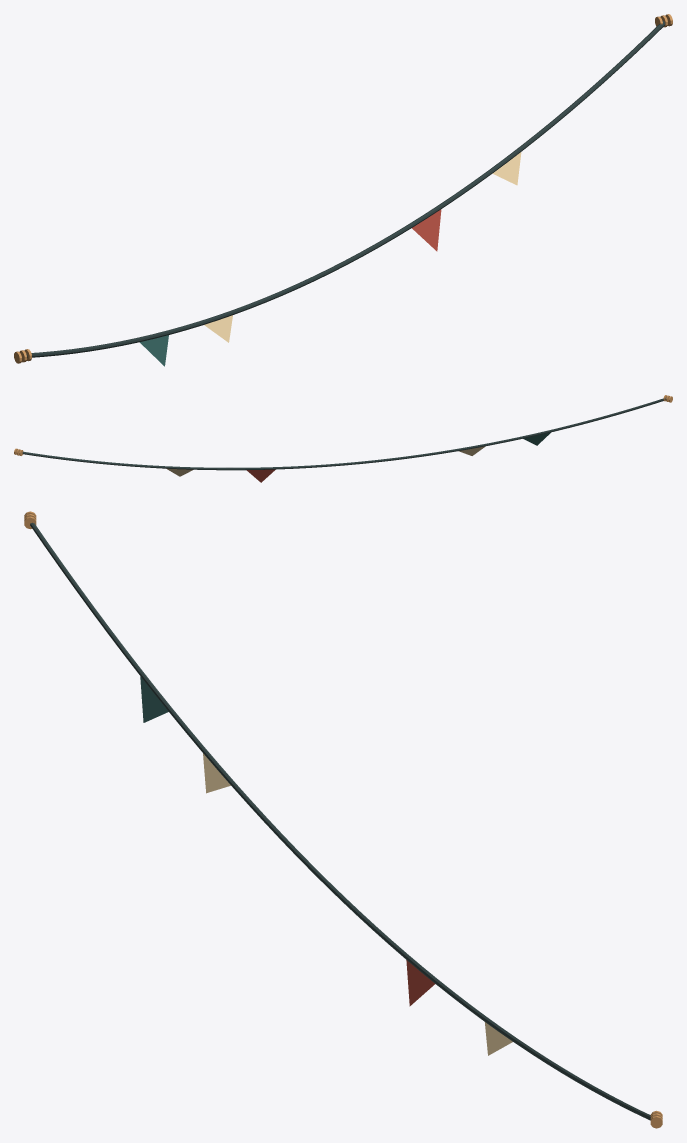
The model's file is RetensionedCord.glb.
The picture shows the model from 3 angles, top to bottom: view 1: azimuth 30°, elevation 25°; view 2: azimuth 150°, elevation 25°; view 3: azimuth 270°, elevation 25°; orthographic projection. The views are drawn at different scales.
Parts seen in each view (by area): view 1: RetensionedCord; view 2: RetensionedCord; view 3: RetensionedCord.
Part boxes in pixels (x1=…): RetensionedCord: x1=14, y1=14, x2=672, y2=366; RetensionedCord: x1=14, y1=395, x2=672, y2=482; RetensionedCord: x1=24, y1=511, x2=662, y2=1128.
Size of the model in its own units: 5.74 by 1.03 by 3.18.
